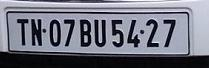0: (48, 18, 61, 46)
2: (144, 18, 159, 48)
4: (125, 17, 139, 47)
5: (110, 18, 123, 47)
7: (161, 18, 176, 47), (62, 18, 75, 47)
B: (78, 18, 90, 46)
N: (29, 17, 42, 45)
T: (15, 17, 29, 46)
U: (92, 18, 106, 47)
